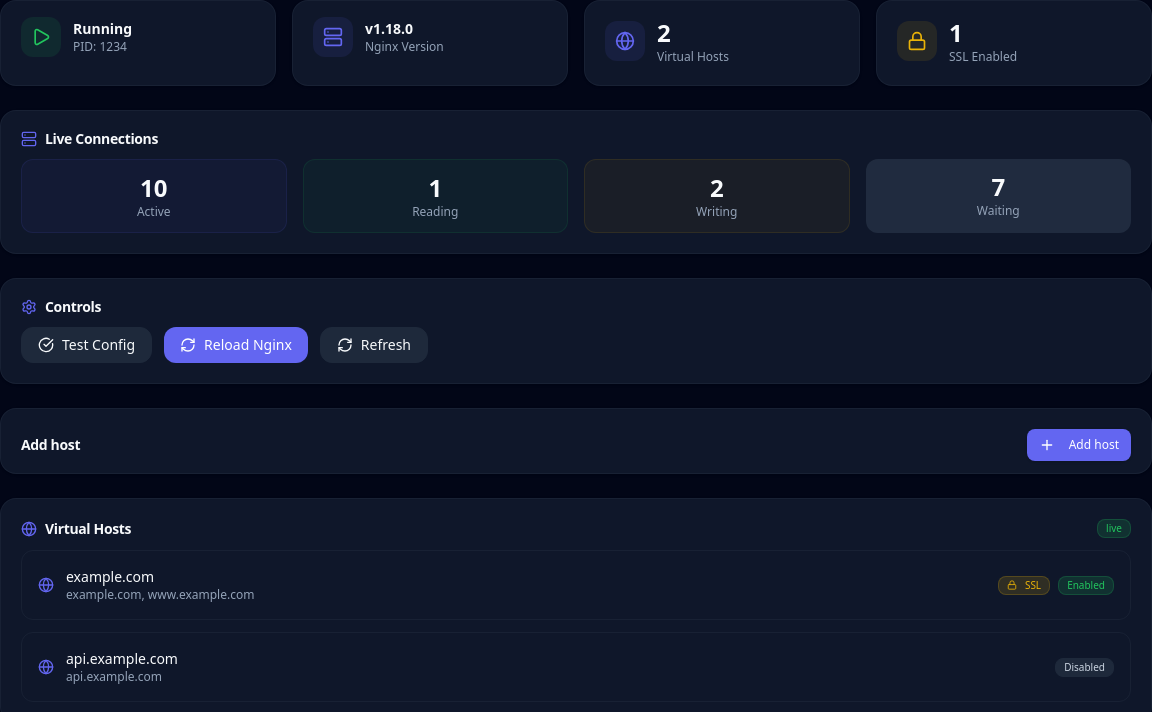
Test: NginxPage › performs config test successfully
This screenshot has width=1152, height=712.
Click the button "Test Config".
click(87, 345)  # box left=21, top=327, right=152, bottom=363
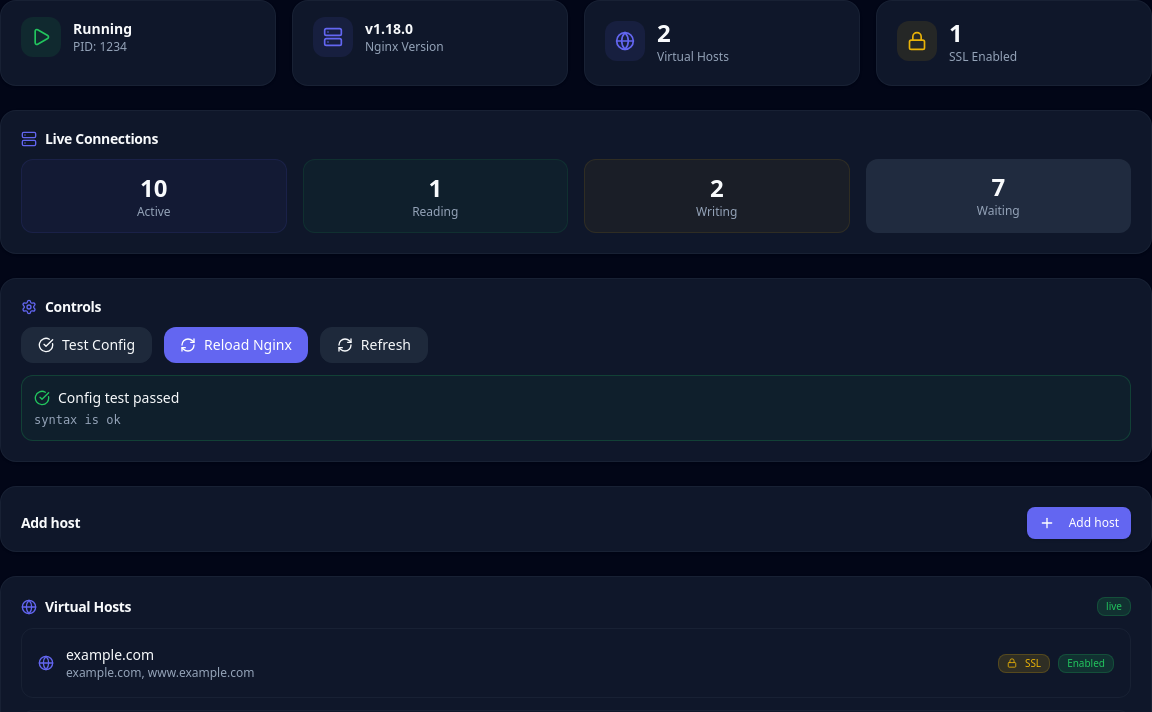
expect the text "Config test passed" is shown: met, box left=58, top=388, right=179, bottom=408
expect the text "syntax is ok" is shown: met, box left=34, top=413, right=121, bottom=427
